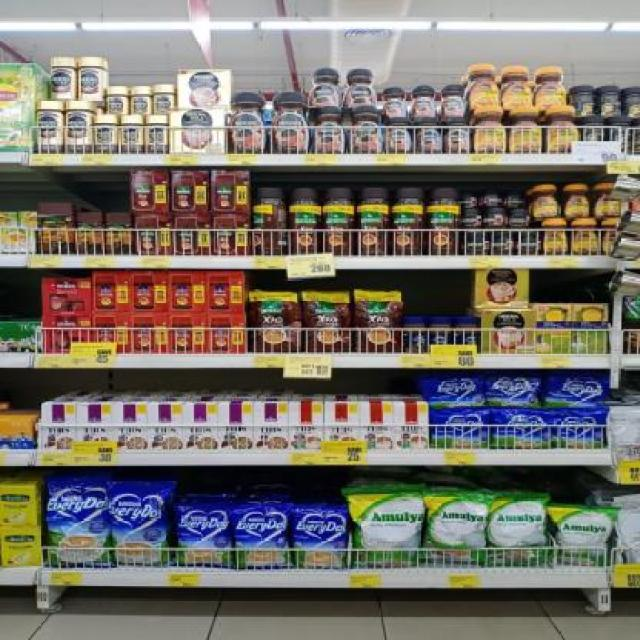Coffee: (272, 92, 310, 154), (229, 92, 266, 154), (348, 106, 383, 154), (545, 108, 578, 154), (314, 108, 346, 154), (508, 108, 541, 152), (473, 107, 504, 153), (500, 66, 532, 108), (65, 100, 90, 152), (36, 100, 61, 152), (470, 63, 500, 106), (343, 68, 377, 105), (310, 68, 340, 106), (384, 118, 414, 154), (50, 57, 76, 98), (537, 68, 565, 106), (542, 218, 568, 256), (444, 118, 471, 154), (416, 116, 442, 153), (79, 57, 101, 98), (93, 115, 116, 153), (594, 184, 621, 216), (146, 115, 168, 154), (438, 85, 465, 116), (563, 184, 589, 216), (573, 220, 598, 253), (410, 85, 436, 116), (532, 185, 556, 217), (121, 116, 141, 152), (383, 87, 406, 116), (153, 85, 174, 115), (107, 87, 125, 115), (131, 87, 149, 115), (466, 232, 488, 254), (458, 208, 480, 227), (482, 209, 504, 228), (518, 235, 540, 254), (492, 234, 513, 253), (507, 212, 530, 228), (458, 190, 479, 207), (484, 189, 504, 206), (506, 193, 526, 209)
